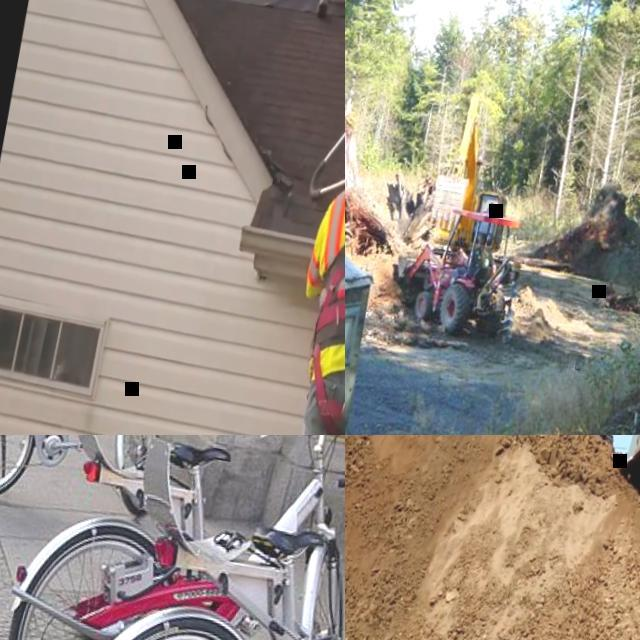vest: (292, 167, 345, 367), (484, 208, 494, 216)
